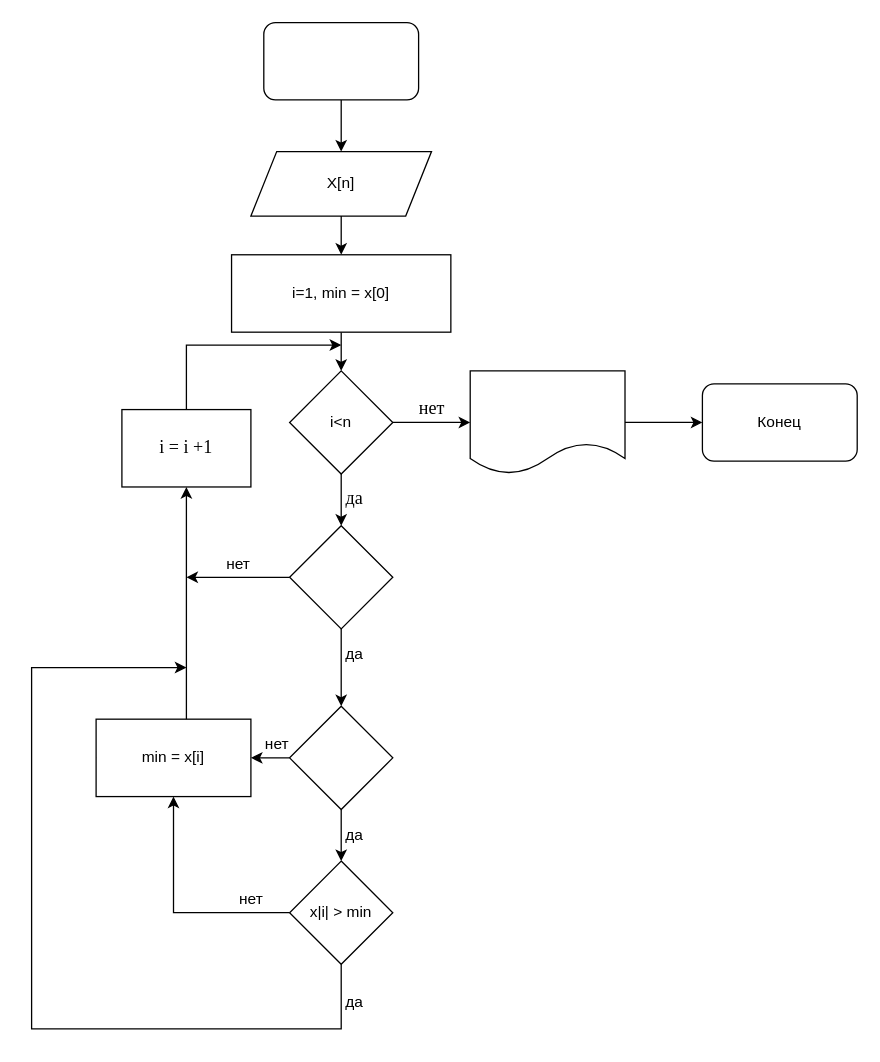
The diagram is 880 pixels wide and 1062 high, and some of its shapes have lost their labels. Here are the shapes that lost their labels. From the top down, the centre of each, then its label:
point (341, 60): Начало
point (547, 422): вывод min
point (340, 576): |x[i]|.<=|min|
point (340, 757): |x[i]|.= |min|
